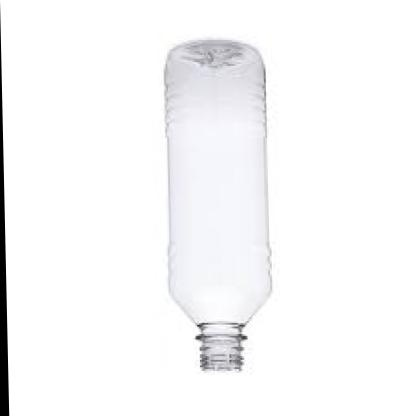trash: (165, 40, 271, 370)
